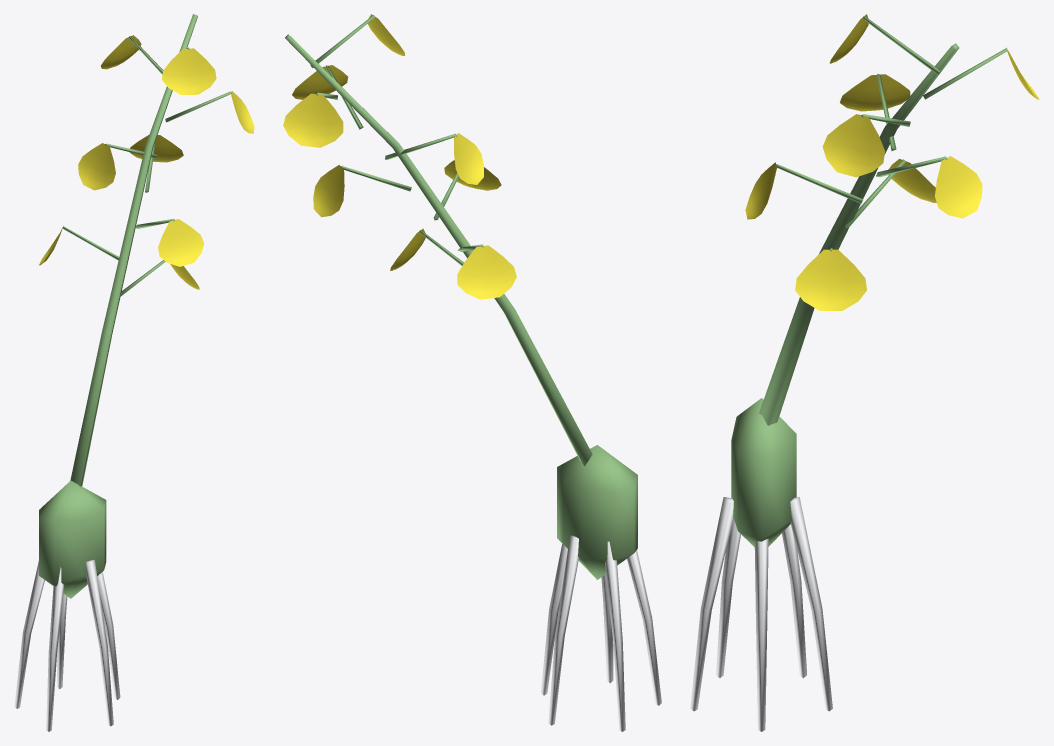
The model's file is carnivorous_wild_orchid.glb.
3 views of the same model, side by side, from view 1: azimuth 30°, elevation 25°; view 2: azimuth 150°, elevation 25°; view 3: azimuth 270°, elevation 25° (orthographic). The views are drawn at different scales.
Parts seen in each view (by area): view 1: Flora_Wild_Orchid; view 2: Flora_Wild_Orchid; view 3: Flora_Wild_Orchid.
Boxes of the visible parts, bbox=[...] form: Flora_Wild_Orchid: bbox=[14, 14, 254, 731]; Flora_Wild_Orchid: bbox=[283, 14, 661, 731]; Flora_Wild_Orchid: bbox=[690, 14, 1039, 731].
Bounding box in the file's own units: 0.3688 × 0.8053 × 0.3243.
